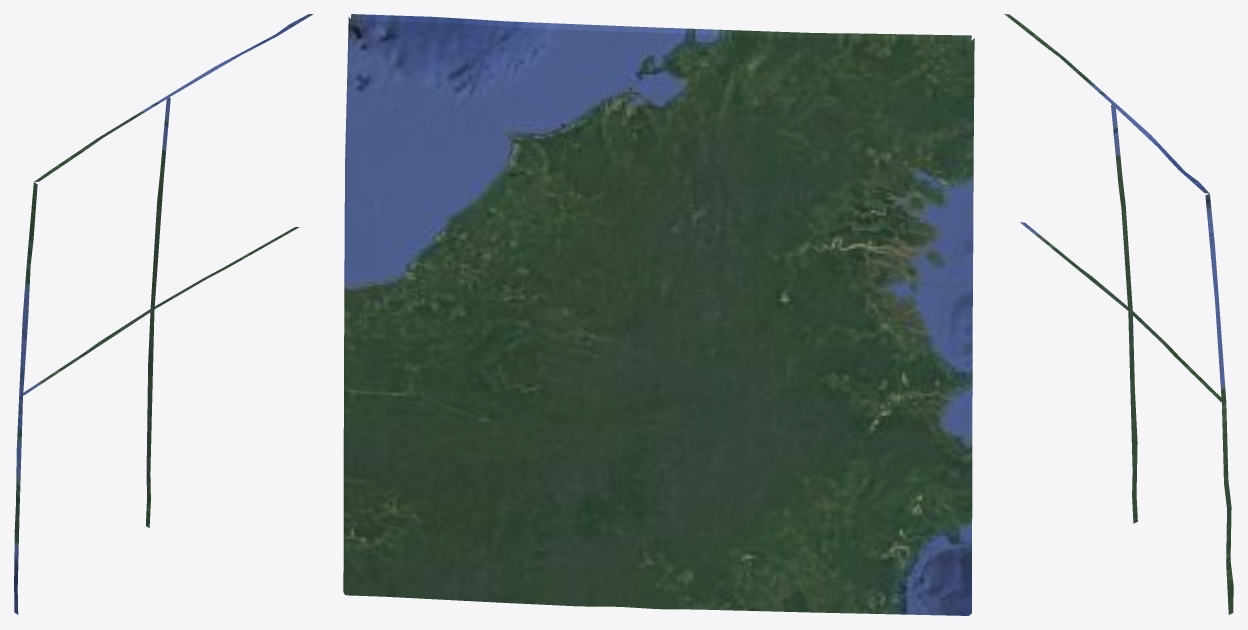
3 renders of one model, left to right at view 1: azimuth 30°, elevation 25°; view 2: azimuth 150°, elevation 25°; view 3: azimuth 270°, elevation 25°, orthographic. The views are drawn at different scales.
Size of the model in its own units: 583988 by 628195 by 307133.
Materials: 1 (1 with a texture image).
